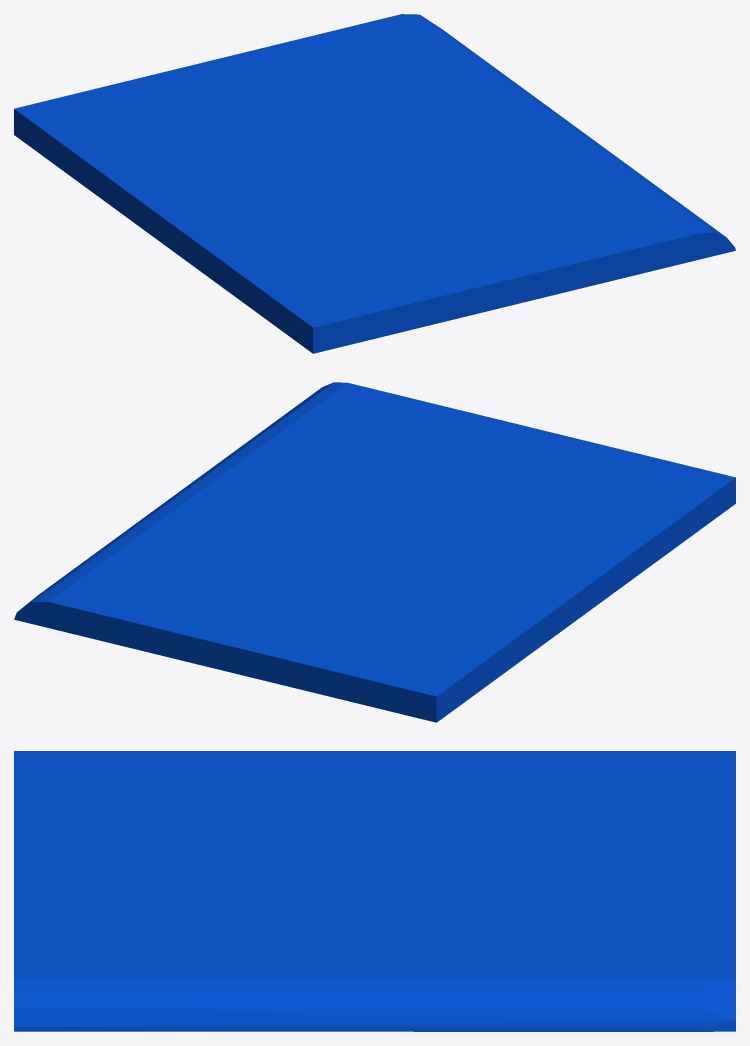
3 renders of one model, top to bottom at view 1: azimuth 30°, elevation 25°; view 2: azimuth 150°, elevation 25°; view 3: azimuth 270°, elevation 25°, orthographic. The views are drawn at different scales.
Size of the model in its own units: 6.51 by 0.3856 by 7.97.
